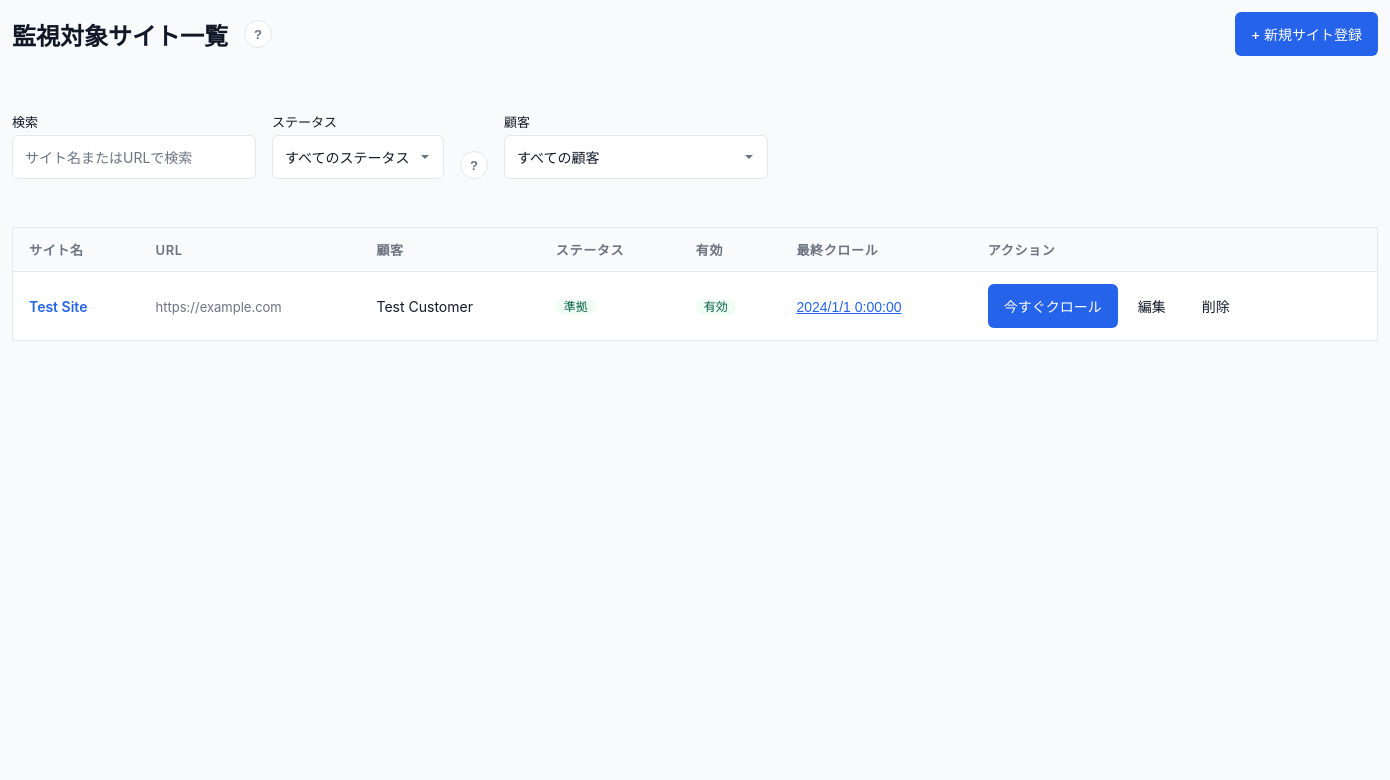
Test case: Sites - Crawl Button › should show warning toast when crawl is already running (409 conflict)
Click the button "今すぐクロール" at {"x": 1053, "y": 306}, box [988, 284, 1118, 328]
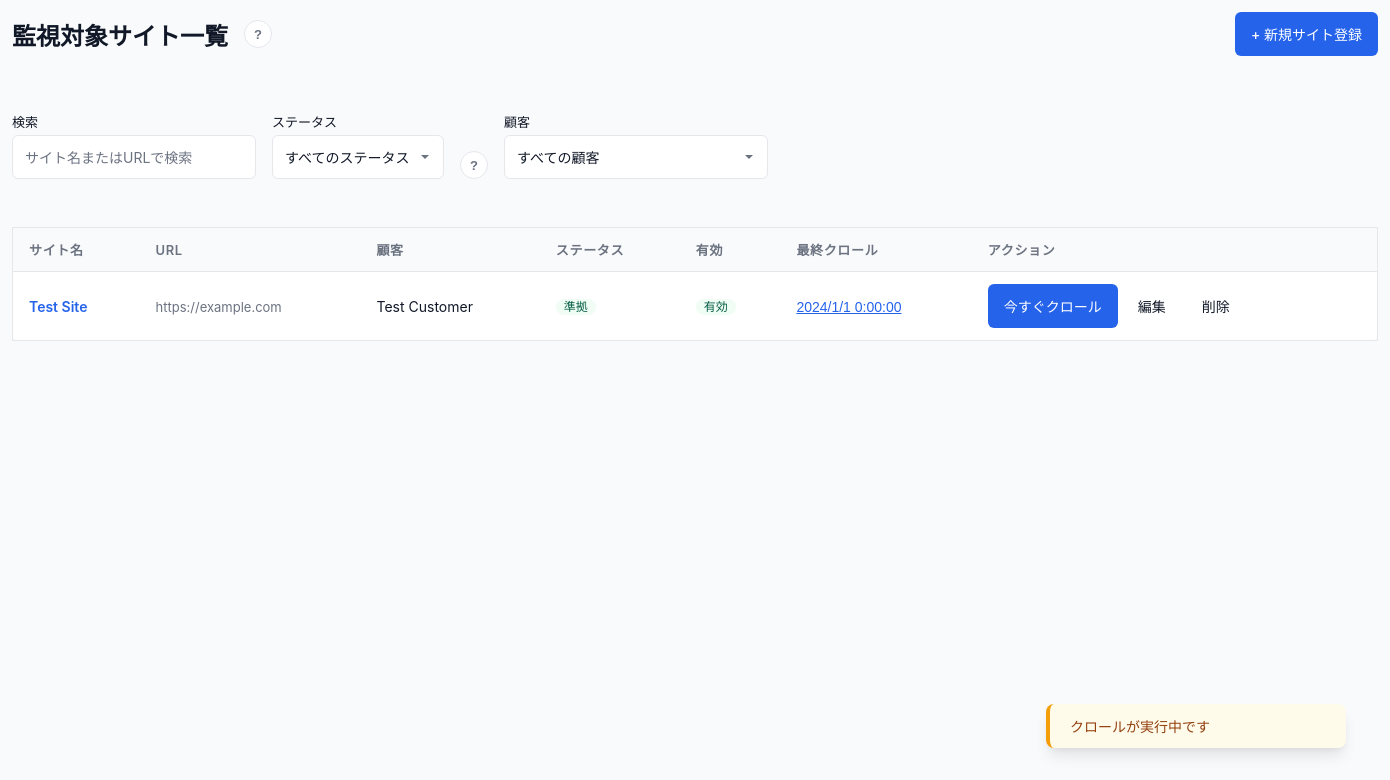
Now the text "クロールが実行中です" is shown, box [1046, 704, 1346, 748]
